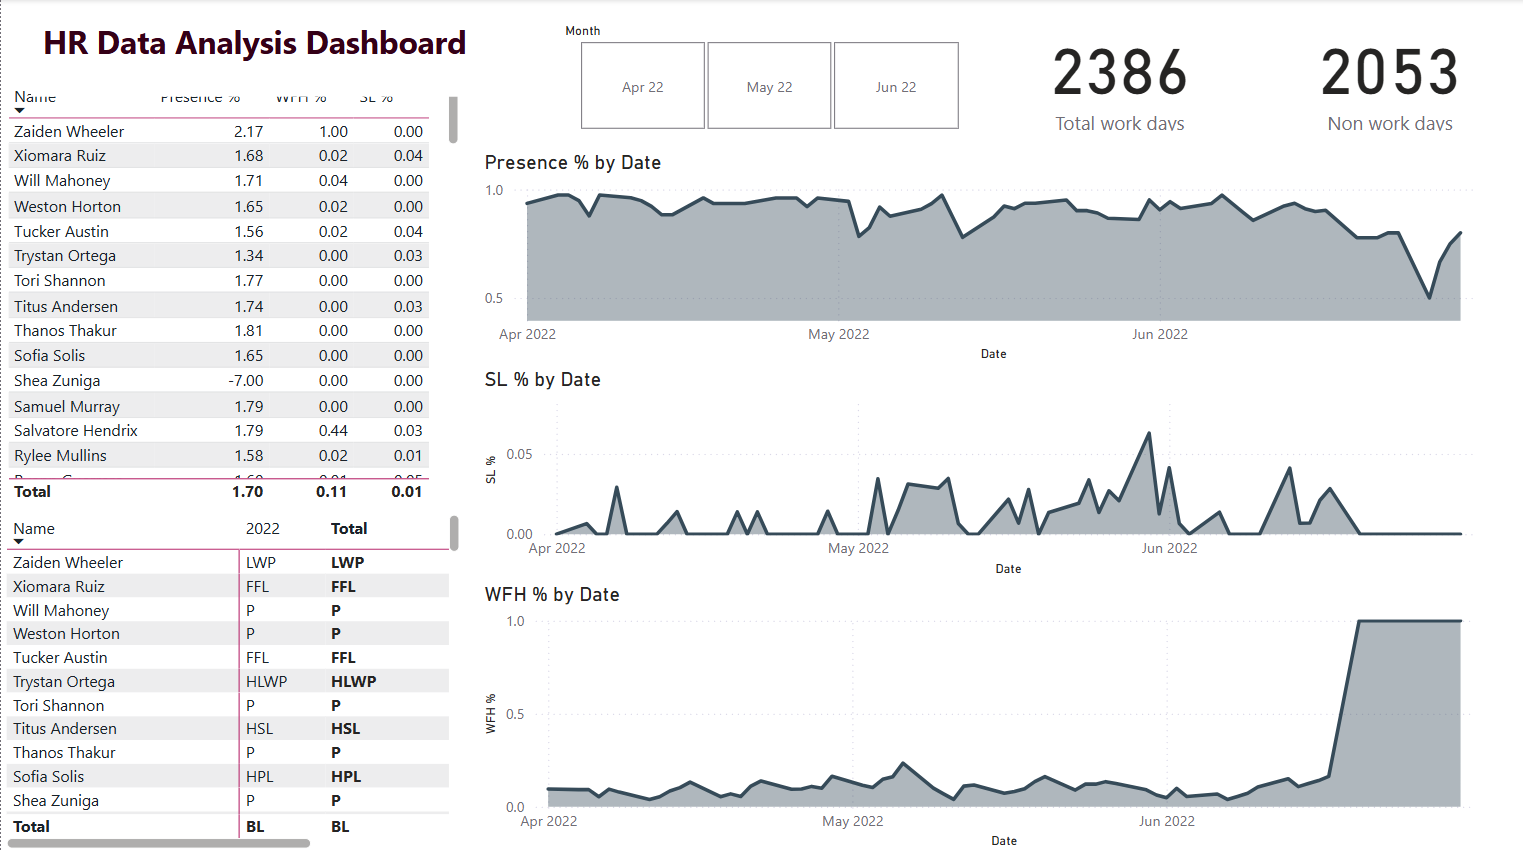

This screenshot's page, from the dashboard's own definition file:
{"tool":"powerbi","page":{"name":"Page 1","canvas":[1280,720],"ordinal":0},"visuals":[{"type":"card","fields":{"Values":["Measure Table.Total work days"]},"box":[829.6,14.3,223.8,101.2],"z":0},{"type":"slicer","fields":{"Values":["Final data.Month"]},"box":[461.8,14.3,367.8,101.2],"z":1000},{"type":"pivotTable","fields":{"Rows":["Final data.Name"],"Values":["Final data.Value"],"Columns":["Final data.Date.Variation.Date Hierarchy.Year","Final data.Date.Variation.Date Hierarchy.Quarter","Final data.Date.Variation.Date Hierarchy.Month","Final data.Date.Variation.Date Hierarchy.Day"]},"box":[0,429,390.6,290.8],"z":2000},{"type":"textbox","box":[0,32.8,350.6,64.1],"z":3000},{"type":"tableEx","fields":{"Values":["Final data.Name","Measure Table.Presence %","Measure Table.WFH %","Measure Table.SL %"]},"box":[0,115.5,390.6,313.6],"z":4000},{"type":"stackedAreaChart","fields":{"Y":["Measure Table.Presence %"],"Category":["Final data.Date"]},"box":[402,126.9,855.2,182.4],"z":5000},{"type":"stackedAreaChart","fields":{"Category":["Final data.Date"],"Y":["Measure Table.WFH %"]},"box":[402,490.3,855.2,229.5],"z":6000},{"type":"stackedAreaChart","fields":{"Y":["Measure Table.SL %"],"Category":["Final data.Date"]},"box":[402,309.3,855.2,181],"z":6001},{"type":"card","fields":{"Values":["Measure Table.Non work days"]},"box":[1056.2,14.3,223.8,101.2],"z":6002}]}

Visuals, with their boxes in screenshot pixels (x1, y1, x2, y2), scaled from the page's 1280x720 canvas onto the 1523x852 screenshot:
card - Measure Table.Total work days: bbox(987, 17, 1253, 137)
slicer - Final data.Month: bbox(549, 17, 987, 137)
pivotTable - Final data.Name x Final data.Value: bbox(0, 508, 465, 851)
textbox: bbox(0, 39, 417, 115)
tableEx - Final data.Name x Measure Table.Presence %: bbox(0, 137, 465, 508)
stackedAreaChart - Measure Table.Presence % x Final data.Date: bbox(478, 150, 1496, 366)
stackedAreaChart - Final data.Date x Measure Table.WFH %: bbox(478, 580, 1496, 851)
stackedAreaChart - Measure Table.SL % x Final data.Date: bbox(478, 366, 1496, 580)
card - Measure Table.Non work days: bbox(1257, 17, 1522, 137)
